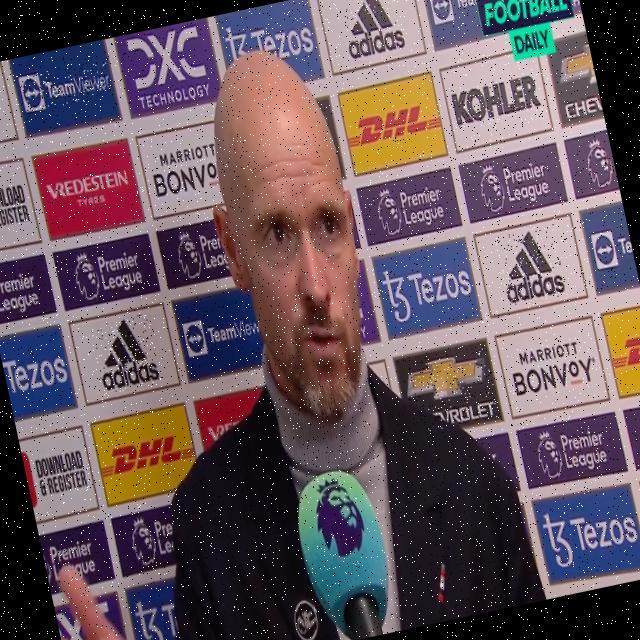Adidas: (493, 224, 568, 307), (89, 313, 163, 395), (336, 0, 407, 59)
Chevrolet: (401, 344, 500, 434)
Kohler: (450, 71, 544, 128)
TeamViewer: (19, 58, 114, 113), (428, 0, 524, 21)
